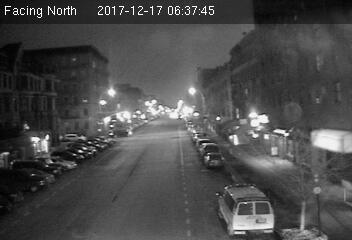car: (201, 152, 225, 167)
police: (215, 183, 276, 237)
